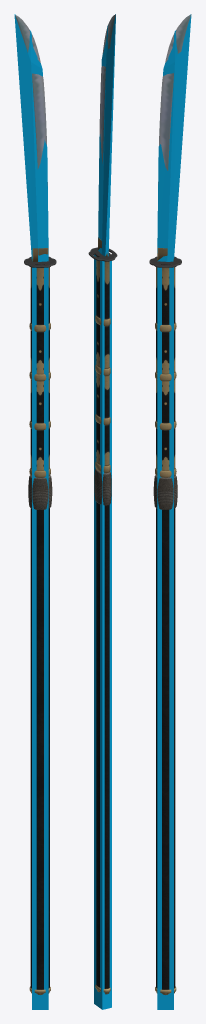
File: JWC_Weapon_Naginata_A_03.fbx
3 renders of one model, left to right at view 1: azimuth 90°, elevation 25°; view 2: azimuth 210°, elevation 25°; view 3: azimuth 270°, elevation 25°, orthographic.
Visible parts, largest first — view 1: JWC_Weapon_Naginata_A_03, C_JWC_Weapon_Naginata_A_04, C_JWC_Weapon_Naginata_A_03; view 2: JWC_Weapon_Naginata_A_03, C_JWC_Weapon_Naginata_A_04, C_JWC_Weapon_Naginata_A_03; view 3: JWC_Weapon_Naginata_A_03, C_JWC_Weapon_Naginata_A_04, C_JWC_Weapon_Naginata_A_03.
Boxes of the visible parts, x1,y1,x2,y2 form: JWC_Weapon_Naginata_A_03: (15, 15, 56, 994); C_JWC_Weapon_Naginata_A_04: (32, 267, 48, 1009); C_JWC_Weapon_Naginata_A_03: (14, 14, 48, 261); JWC_Weapon_Naginata_A_03: (88, 14, 117, 994); C_JWC_Weapon_Naginata_A_04: (94, 254, 111, 1009); C_JWC_Weapon_Naginata_A_03: (98, 14, 115, 256); JWC_Weapon_Naginata_A_03: (149, 14, 191, 994); C_JWC_Weapon_Naginata_A_04: (157, 267, 173, 1009); C_JWC_Weapon_Naginata_A_03: (157, 14, 191, 261).
Size of the model in its own units: 0.0681 by 2.97 by 0.1138.
